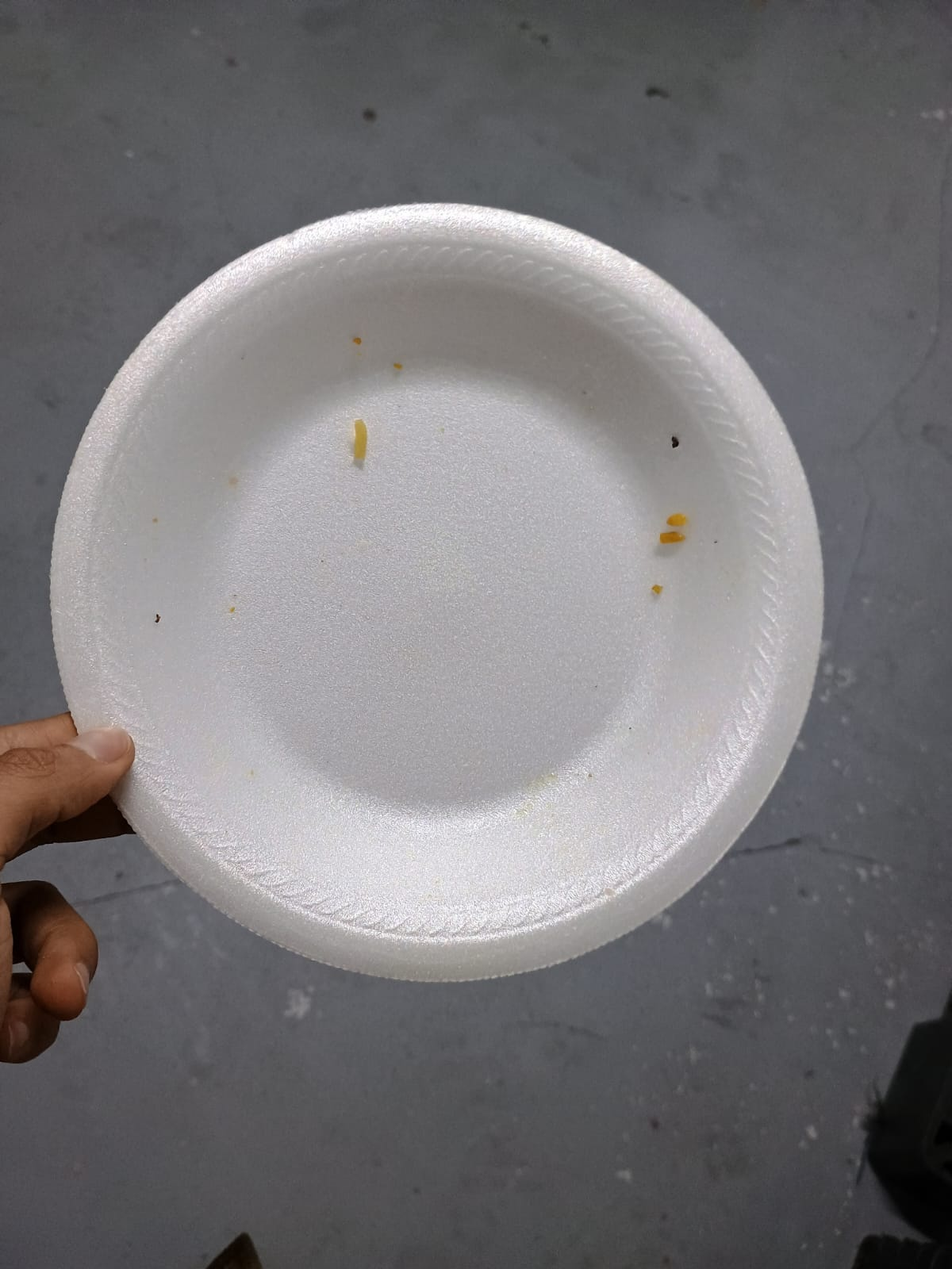Ordinario: (50, 204, 823, 984)
